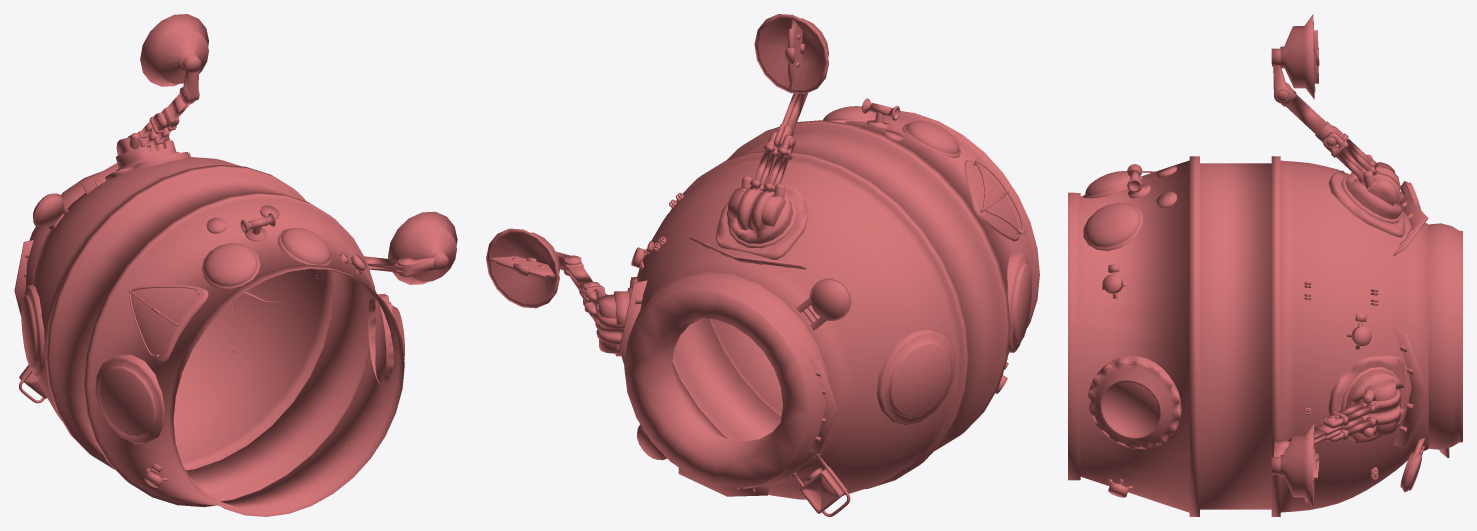
The model's file is Cargo compartment.fbx.
3 renders of one model, left to right at view 1: azimuth 30°, elevation 25°; view 2: azimuth 150°, elevation 25°; view 3: azimuth 270°, elevation 25°, orthographic. The views are drawn at different scales.
Visible parts, largest first — view 1: Cargo compartment; view 2: Cargo compartment; view 3: Cargo compartment.
Part boxes in pixels (x1,y1,x2,y2): Cargo compartment: [14, 14, 457, 516]; Cargo compartment: [486, 14, 1039, 516]; Cargo compartment: [1068, 14, 1462, 516].
Bounding box in the file's own units: 366 × 366 × 272.
